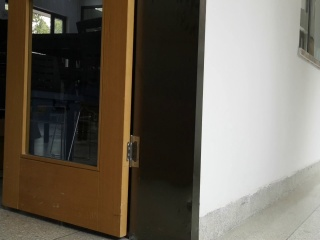room: (3, 2, 204, 236)
